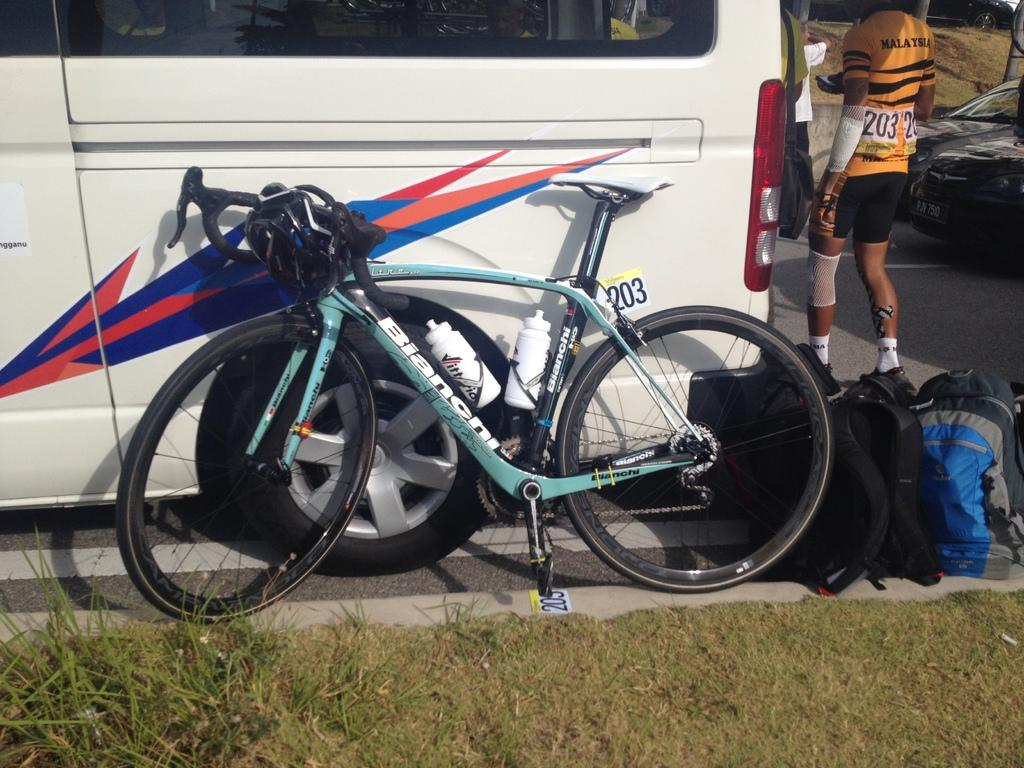Luggage-and-bags: (749, 390, 923, 593), (724, 340, 842, 554), (908, 369, 1015, 575), (845, 362, 923, 406)
